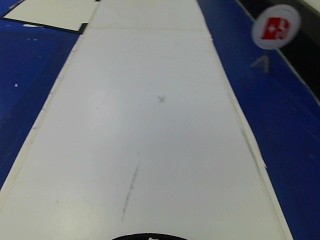battery: (253, 5, 293, 54)
